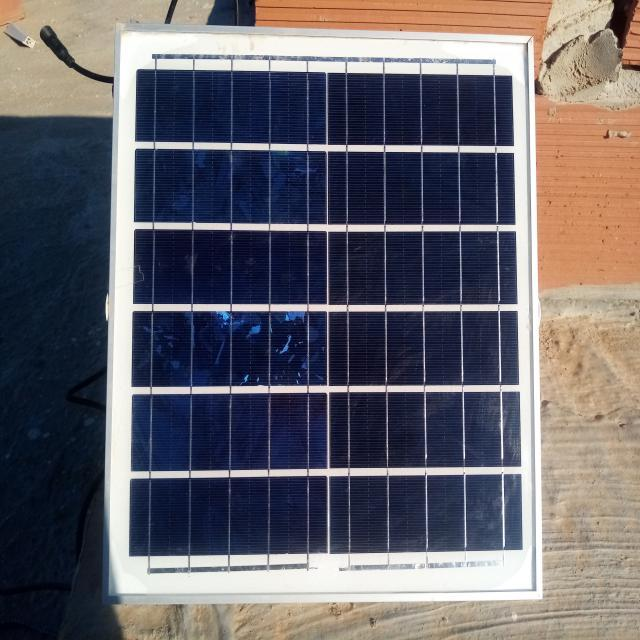no faulty: (104, 24, 542, 600)
